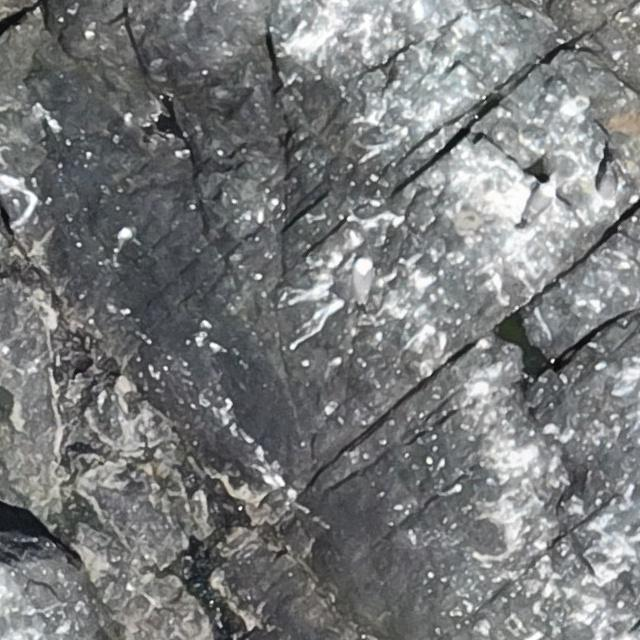umineko: (525, 182, 556, 226), (352, 258, 374, 318), (600, 160, 619, 210)
